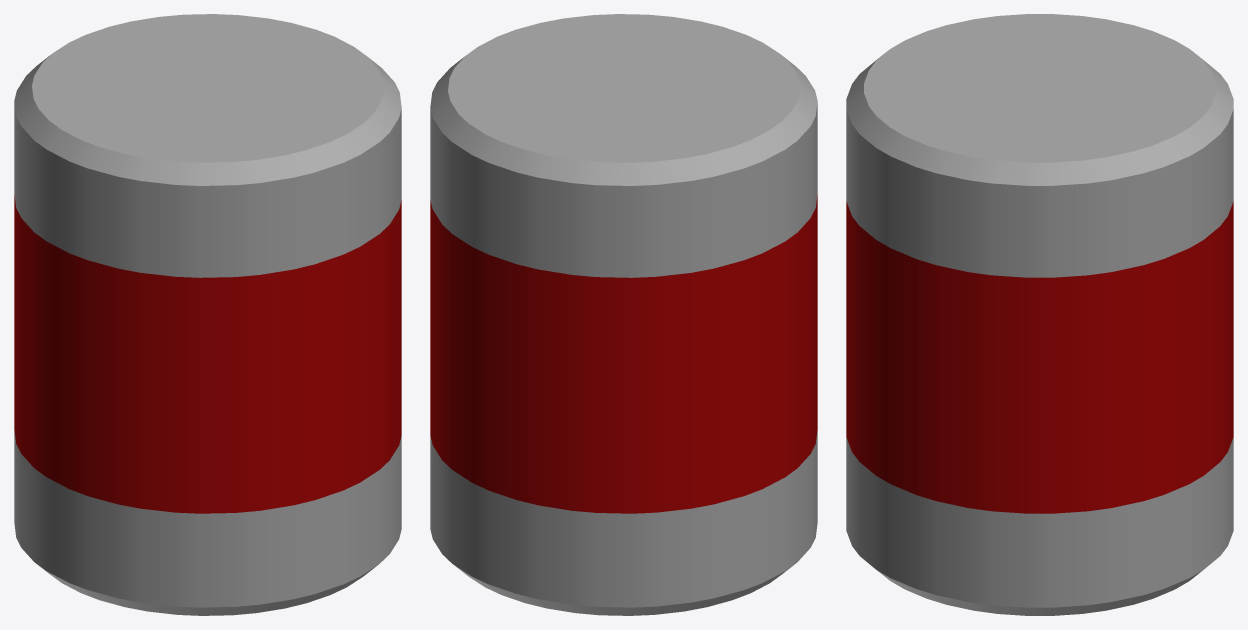
Rendered from can.fbx.
The picture shows the model from 3 angles, left to right: view 1: azimuth 30°, elevation 25°; view 2: azimuth 150°, elevation 25°; view 3: azimuth 270°, elevation 25°; orthographic projection.
Visible parts, largest first — view 1: pasted__pCylinder1; view 2: pasted__pCylinder1; view 3: pasted__pCylinder1.
Boxes of the visible parts, x1,y1,x2,y2 form: pasted__pCylinder1: (14, 14, 401, 615); pasted__pCylinder1: (430, 14, 817, 615); pasted__pCylinder1: (846, 14, 1233, 615).
Size of the model in its own units: 1.98 by 2.56 by 1.98.
